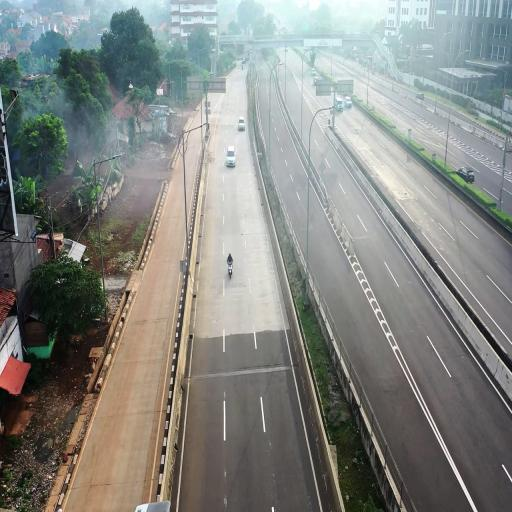vehicle: (225, 147, 236, 169), (237, 116, 245, 131)
